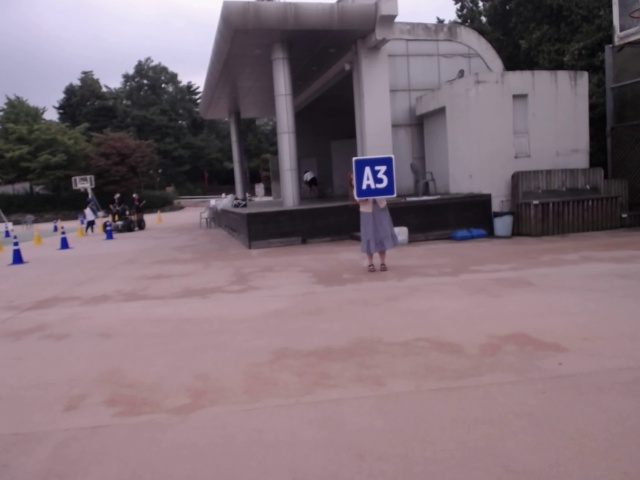delivery_a3: (354, 154, 395, 199)
